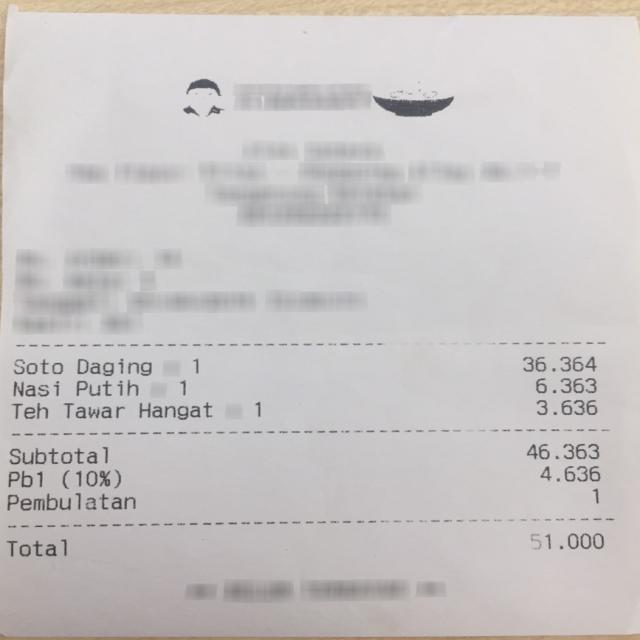text: (6, 492, 134, 510), (9, 446, 110, 464), (522, 355, 596, 371), (60, 468, 119, 488), (5, 538, 70, 556), (77, 358, 150, 374), (140, 402, 211, 418), (531, 533, 602, 549), (526, 443, 597, 458), (75, 379, 137, 395), (63, 402, 123, 418), (535, 377, 596, 392), (535, 399, 596, 414), (539, 466, 599, 480), (13, 358, 61, 374), (12, 380, 58, 396), (11, 402, 47, 418), (8, 469, 41, 486), (190, 358, 200, 374), (178, 379, 188, 395), (254, 402, 264, 416), (592, 487, 599, 503)
